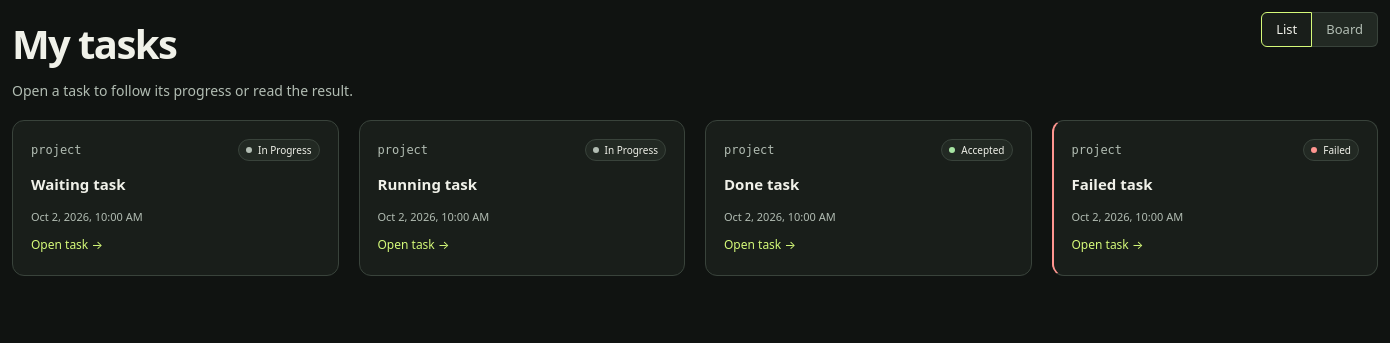
falls back to List when storage cannot be read, and still switches when it cannot be written
The width and height of the screenshot is (1390, 343).
Check: the link "Waiting task" is shown, box [31,174,126,194]
Click the button "Board" at (1345,29), box [1312,12,1378,47]
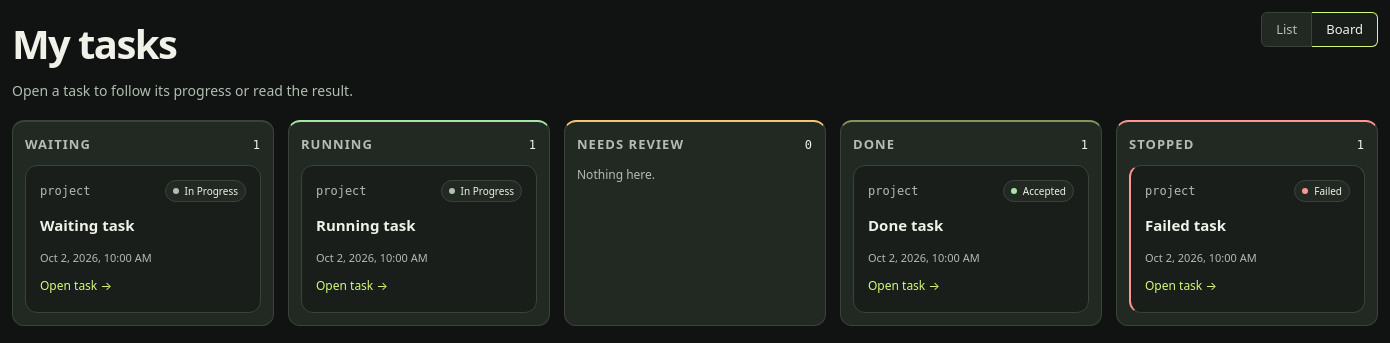
Check: the element "Waiting" is shown, box [12,120,274,326]
